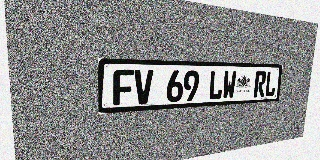6: (166, 70, 184, 102)
9: (183, 70, 200, 101)
F: (113, 69, 134, 106)
L: (208, 71, 224, 100), (264, 71, 277, 97)
R: (253, 71, 267, 97)
V: (134, 70, 153, 104)
W: (222, 71, 237, 99)
